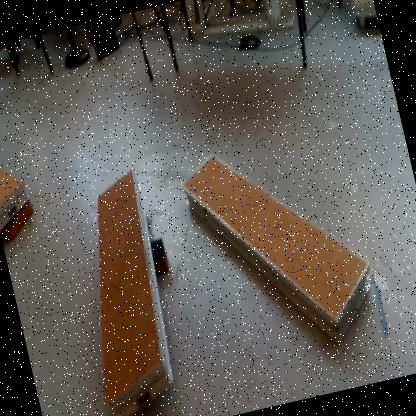Stairs: (181, 149, 374, 345), (97, 168, 176, 416), (1, 171, 32, 235)
